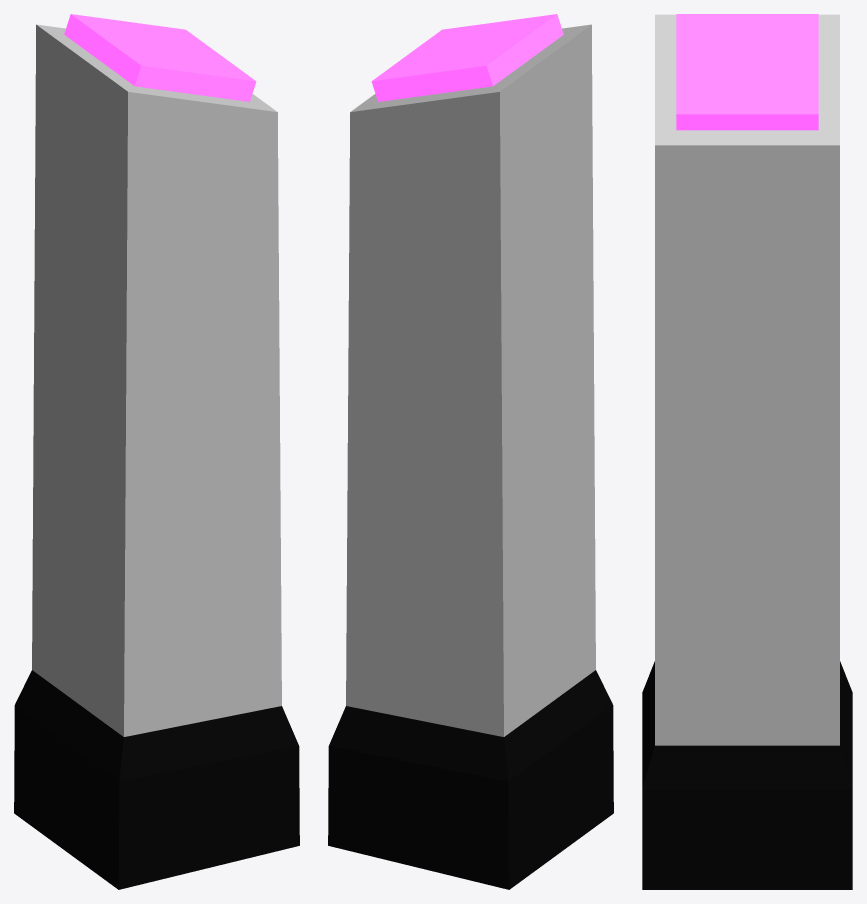
Rendered from ButtonPink.glb.
3 views of the same model, side by side, from view 1: azimuth 30°, elevation 25°; view 2: azimuth 150°, elevation 25°; view 3: azimuth 270°, elevation 25° (orthographic).
Visible parts, largest first — view 1: Cube; view 2: Cube; view 3: Cube.
Part boxes in pixels (left/top/right/bottom): Cube: left=14, top=14, right=299, bottom=889; Cube: left=328, top=14, right=613, bottom=889; Cube: left=642, top=14, right=852, bottom=889.
Bounding box in the file's own units: 0.2882 × 1.22 × 0.2882.
